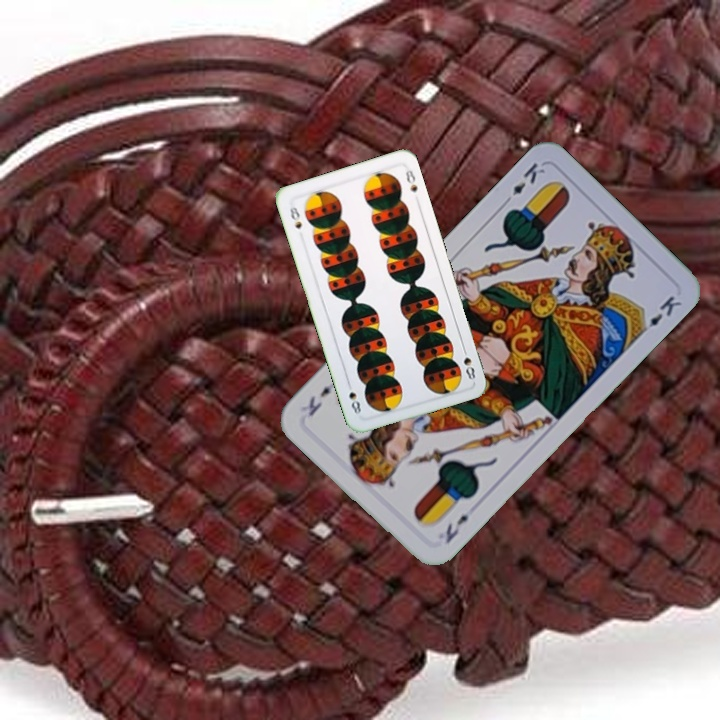EK: (499, 158, 548, 208), (441, 510, 472, 547)
S8: (458, 342, 478, 383), (286, 202, 304, 232)
